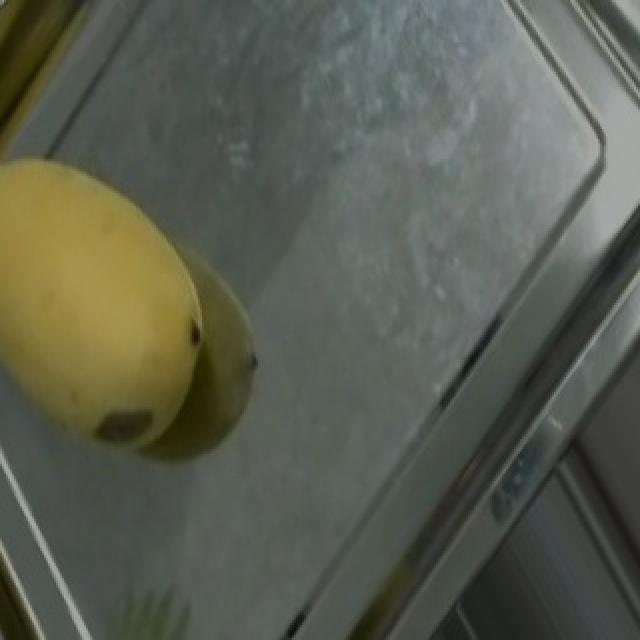fruit: (0, 117, 274, 496)
